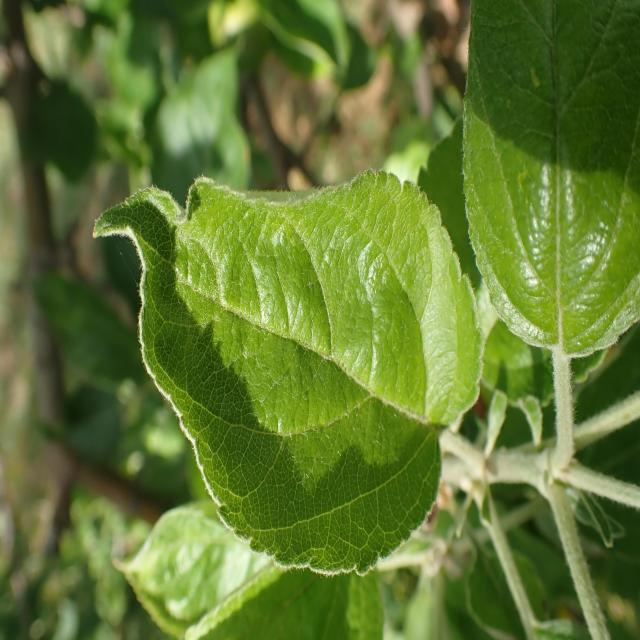healthy: (92, 169, 484, 579), (461, 0, 639, 356), (111, 500, 384, 640)
